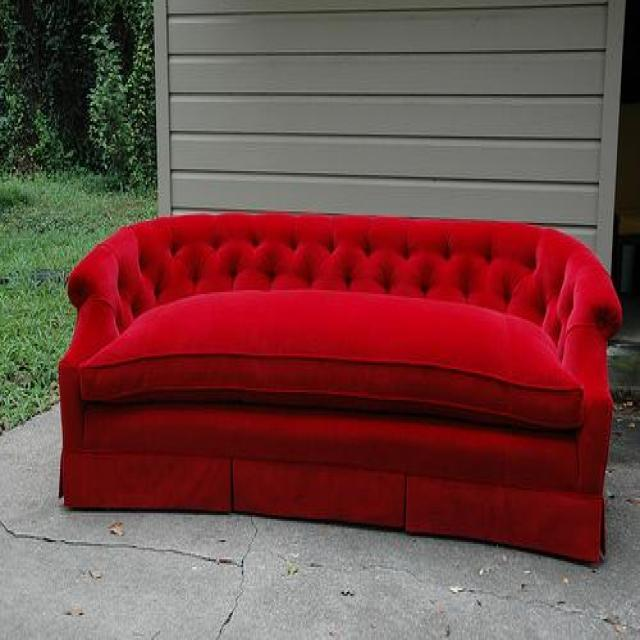sofa: (56, 210, 622, 565)
